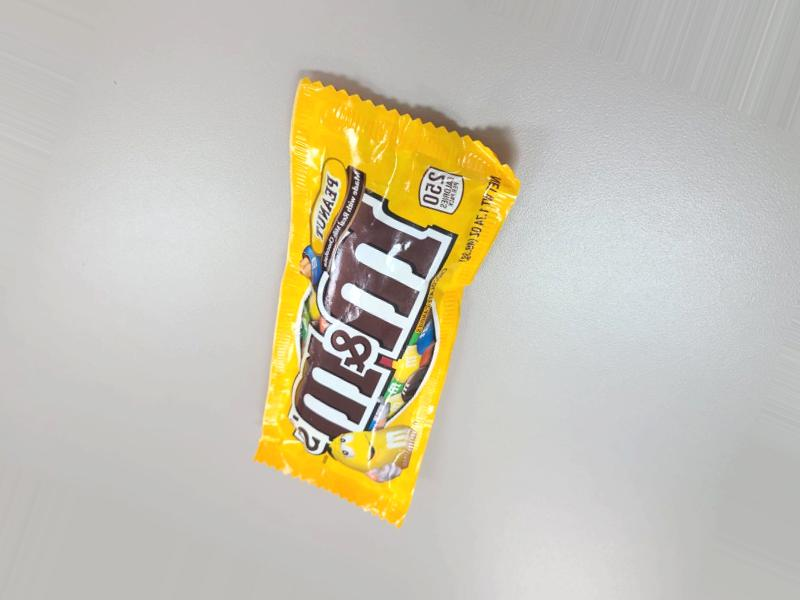m&m: (279, 157, 497, 542)
